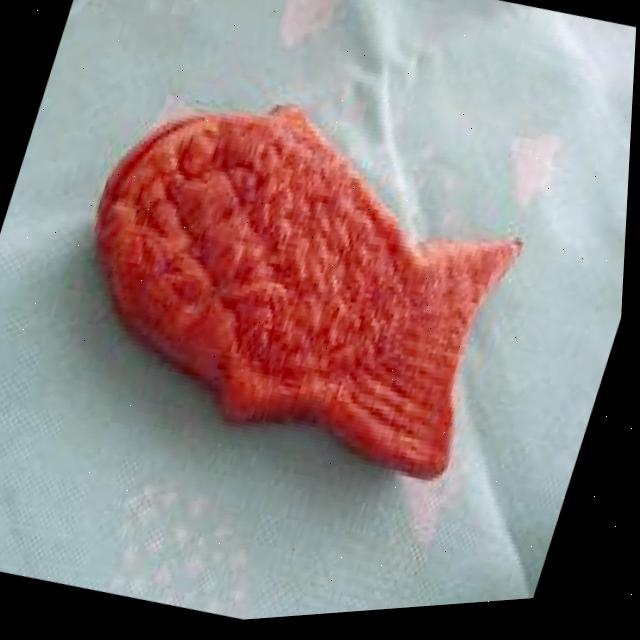熟制海鲜: (27, 46, 572, 531)
